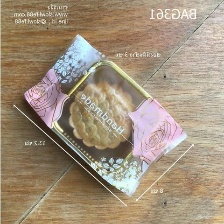snack: (17, 29, 195, 200)
